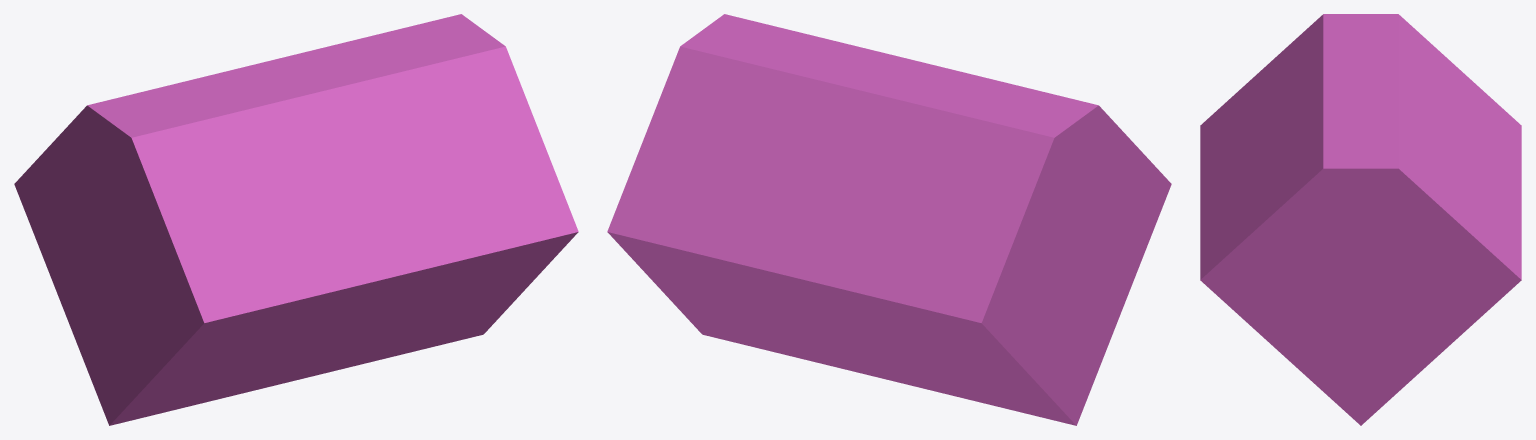
File: obstacle1.fbx
3 views of the same model, side by side, from view 1: azimuth 30°, elevation 25°; view 2: azimuth 150°, elevation 25°; view 3: azimuth 270°, elevation 25° (orthographic). The views are drawn at different scales.
Parts seen in each view (by area): view 1: obstacle1; view 2: obstacle1; view 3: obstacle1.
Boxes of the visible parts, x1,y1,x2,y2 form: obstacle1: [14, 14, 578, 425]; obstacle1: [607, 14, 1171, 425]; obstacle1: [1200, 14, 1521, 425].
Bounding box in the file's own units: 10.64 × 9.36 × 8.27.
